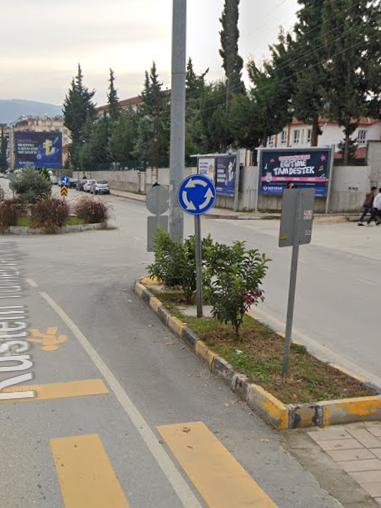crossroads: (179, 177, 215, 214)
